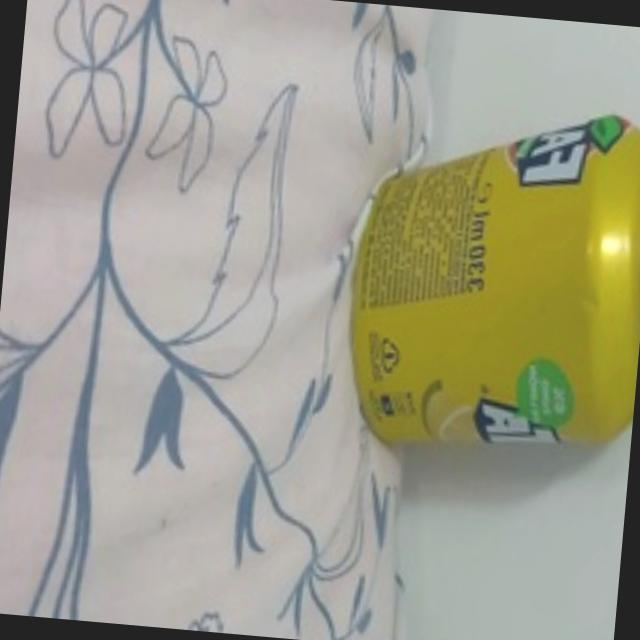Metal: (342, 91, 640, 464)
